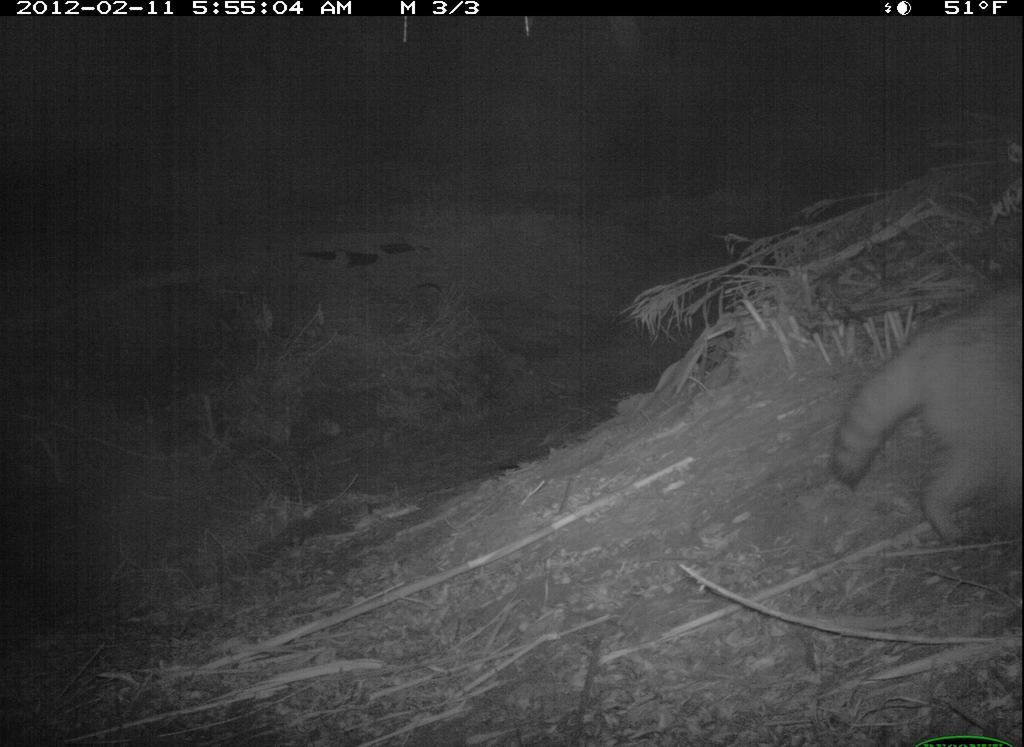raccoon: (821, 281, 1022, 570)
